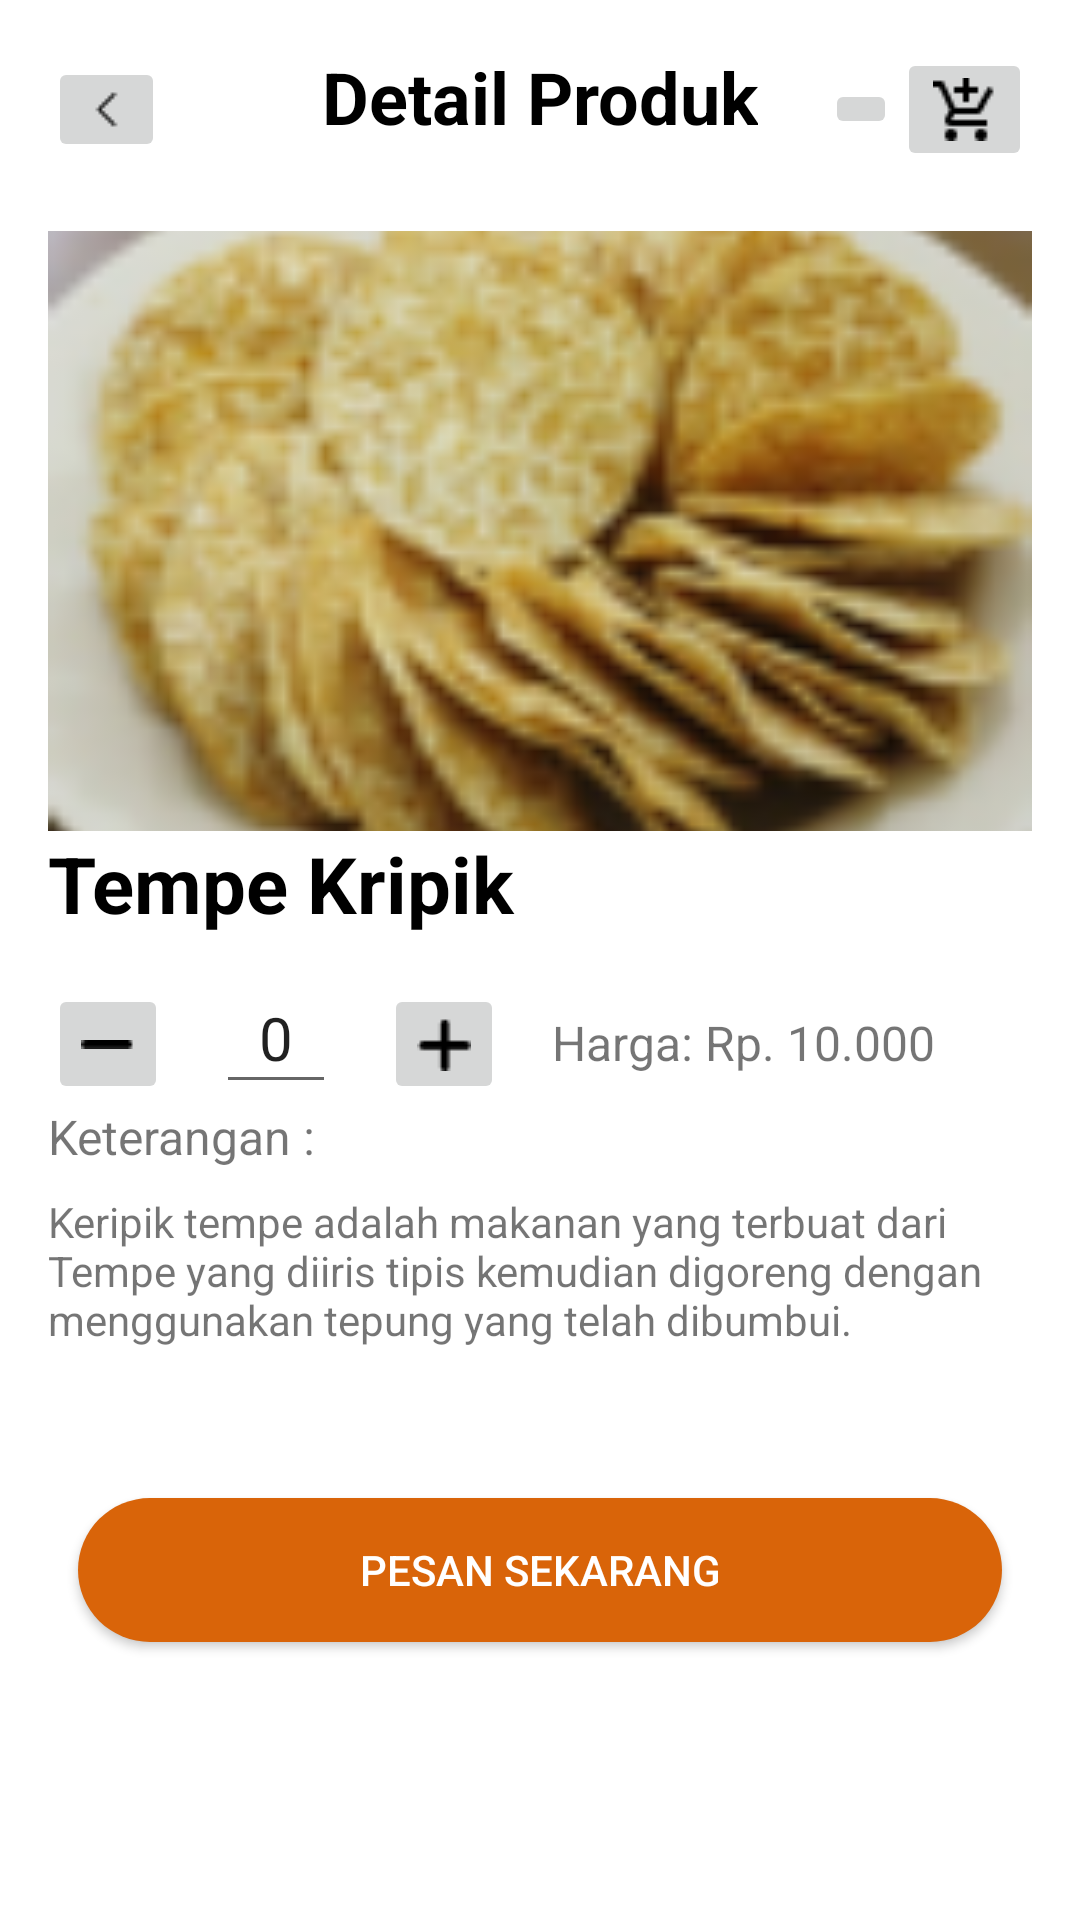

Icons on this 1080x1920 Android screen, each with its box as (x1, y1, x2, y2):
back: (60, 75, 153, 144)
cart: (909, 66, 1020, 153)
tambah: (396, 1002, 492, 1086)
